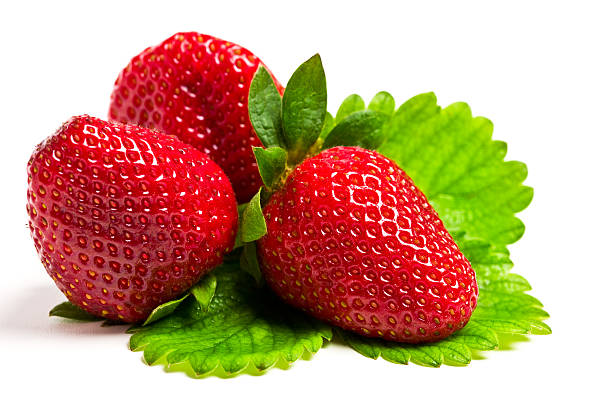Fresa: (253, 142, 483, 350), (21, 111, 244, 325), (102, 30, 299, 210)
